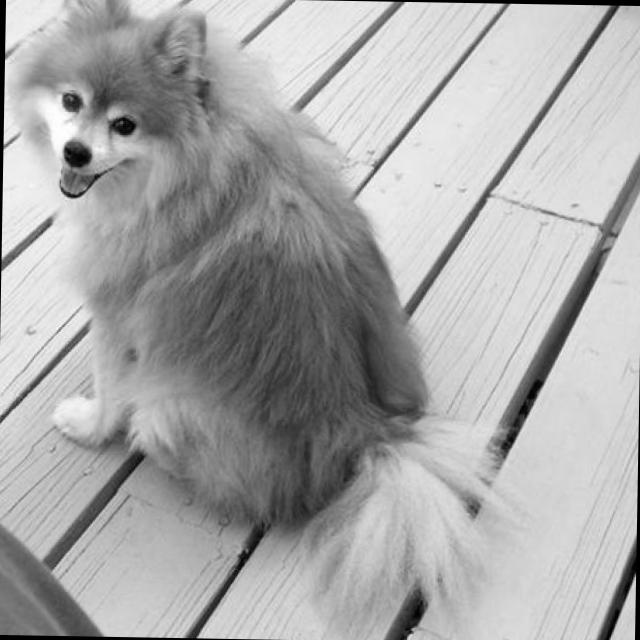sitting: (0, 0, 484, 545)
